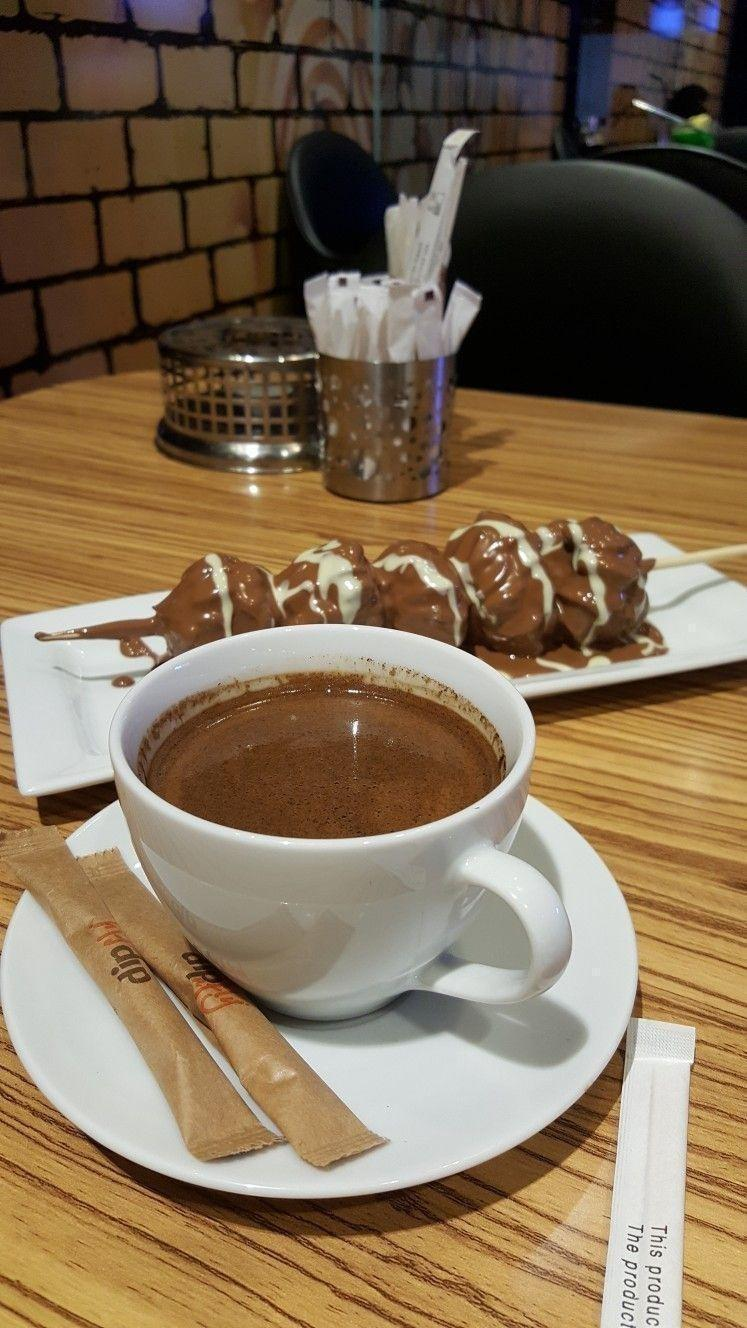cup-handle: (105, 620, 574, 1025)
